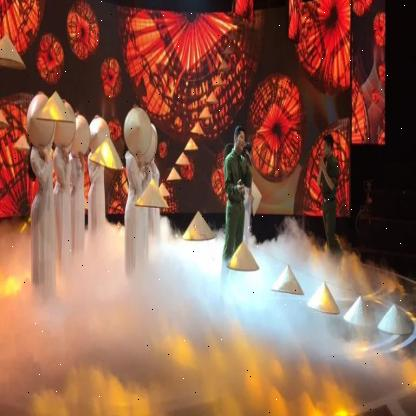smoke: (0, 212, 415, 412)
